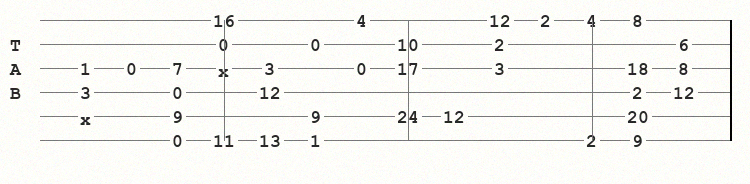0: (126, 60, 141, 76), (172, 132, 187, 148), (172, 84, 187, 100), (218, 36, 233, 52), (310, 36, 325, 52), (356, 60, 371, 76)
1: (80, 60, 95, 76), (310, 132, 325, 148)
10: (397, 36, 423, 52)
11: (213, 132, 239, 148)
12: (259, 84, 285, 100), (443, 108, 469, 124), (489, 12, 515, 28), (673, 84, 699, 100)
13: (259, 132, 285, 148)
16: (213, 12, 239, 28)
17: (397, 60, 423, 76)
18: (627, 60, 653, 76)
2: (494, 36, 509, 52), (540, 12, 555, 28), (586, 132, 601, 148), (632, 84, 647, 100)
20: (627, 108, 653, 124)
24: (397, 108, 423, 124)
3: (80, 84, 95, 100), (264, 60, 279, 76), (494, 60, 509, 76)
4: (356, 12, 371, 28), (586, 12, 601, 28)
6: (678, 36, 693, 52)
7: (172, 60, 187, 76)
8: (632, 12, 647, 28), (678, 60, 693, 76)
9: (172, 108, 187, 124), (310, 108, 325, 124), (632, 132, 647, 148)
x: (80, 110, 95, 122), (218, 62, 233, 74)
